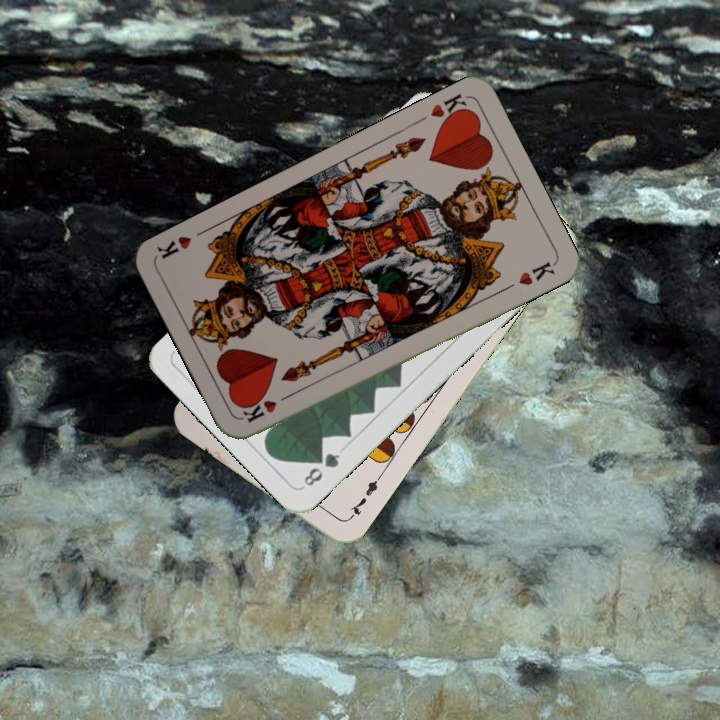E7: (344, 471, 385, 522)
G8: (298, 448, 343, 489)
HK: (238, 389, 295, 425), (427, 89, 474, 128)
